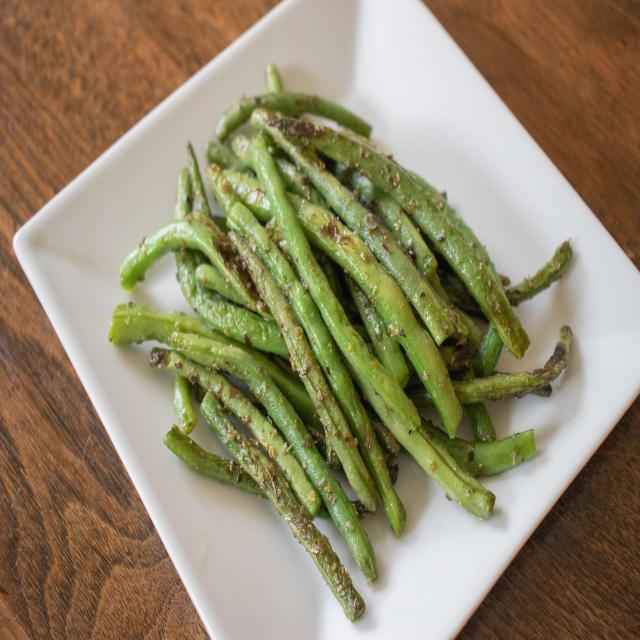Beans: (70, 46, 617, 639)
